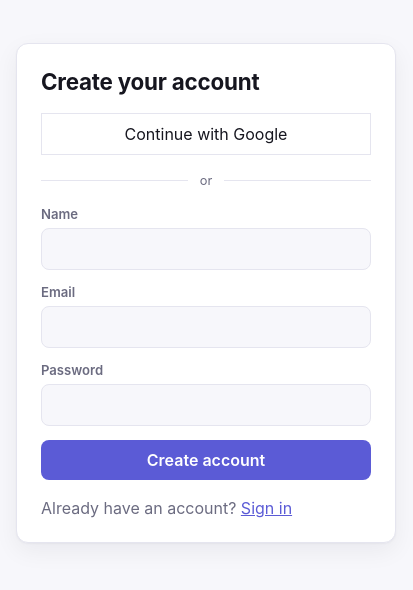
Test: RegisterPage › shows the server's error message when registration fails
The image size is (413, 590).
Type "Alice" into the field labelled "Name" at coordinates (206, 249), box [41,228,371,270]
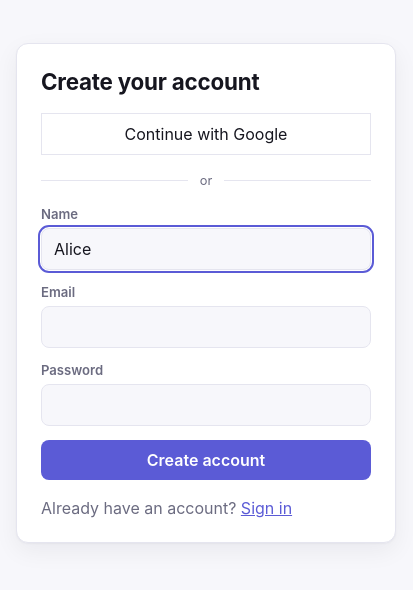
Type "a@b.com" into the field labelled "Email" at coordinates (206, 327), box [41,306,371,348]
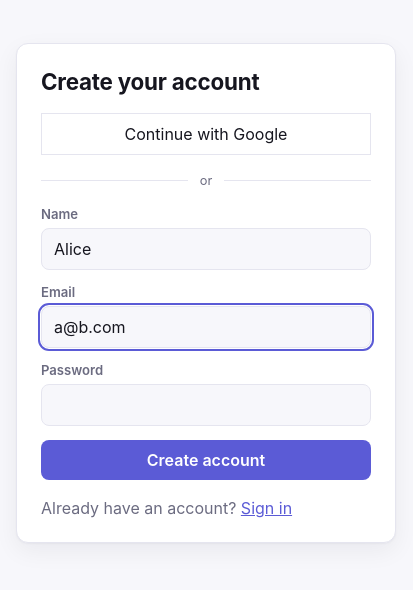
Type "correcthorsebatterystaple" into the password field labelled "Password" at coordinates (206, 405), box [41,384,371,426]
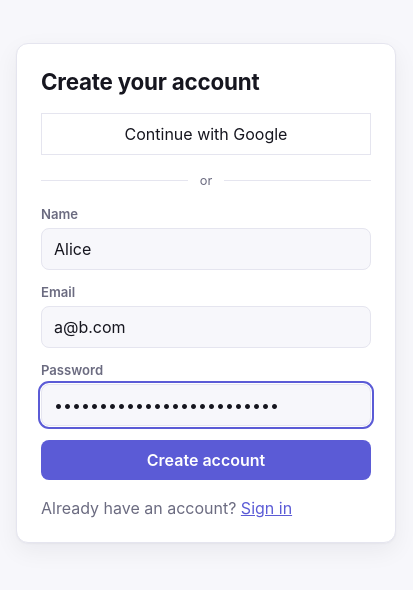
Click the button "Create account" at coordinates (206, 460), box [41,440,371,480]
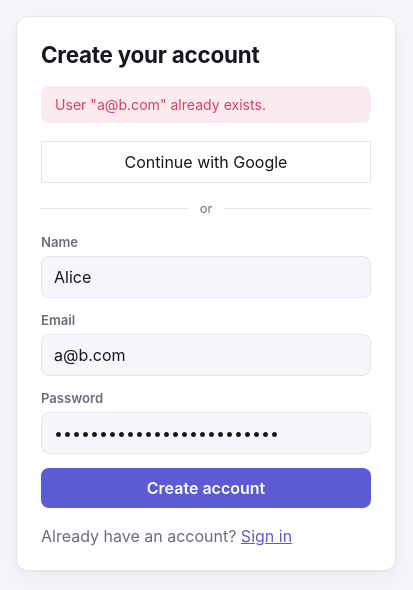
Result: the text "User \"a@b.com\" already exists." is shown at [41,86,371,122]
